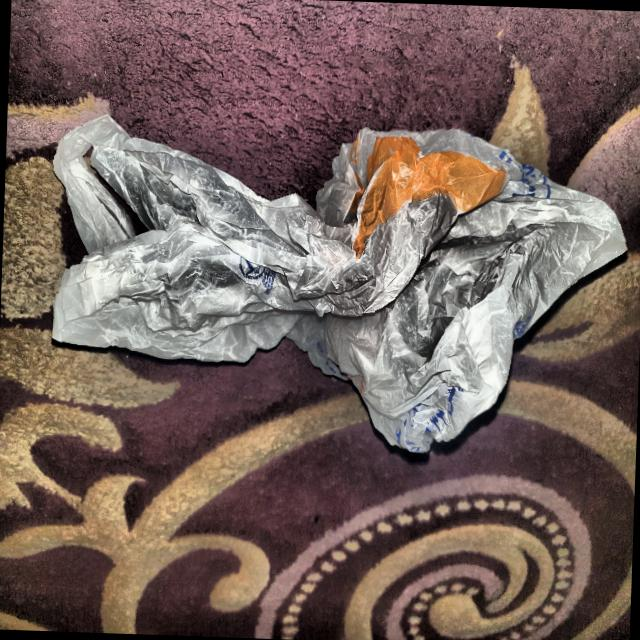plastic bag: (33, 65, 640, 468)
